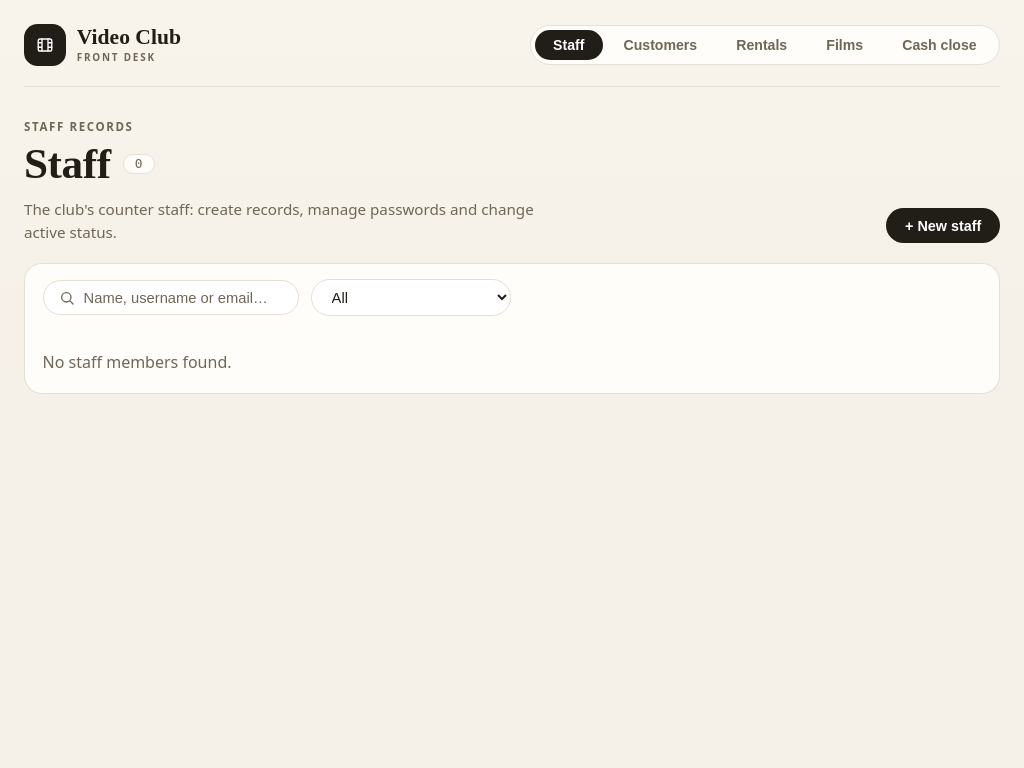
Test: Cash close view › loads today by default and renders the totals with the film breakdown
What coordinates should you click on to do the following:
click the tab "Cash close"
I would click on:
 (939, 45)
Its box is 884,30 -> 995,60.
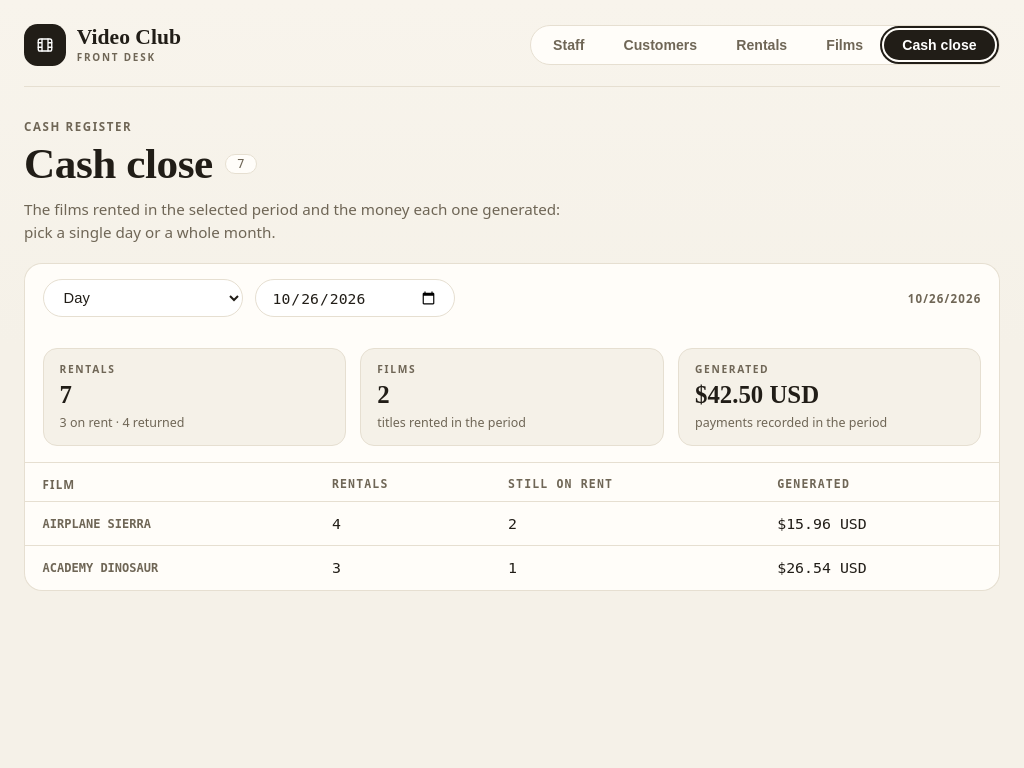
Check: the text "3 on rent · 4 returned" is shown, box 60,414 -> 184,431
Check: the text "titles rented in the period" is shown, box 377,414 -> 526,431
Check: the text "$42.50 USD" is shown, box 695,381 -> 819,408
